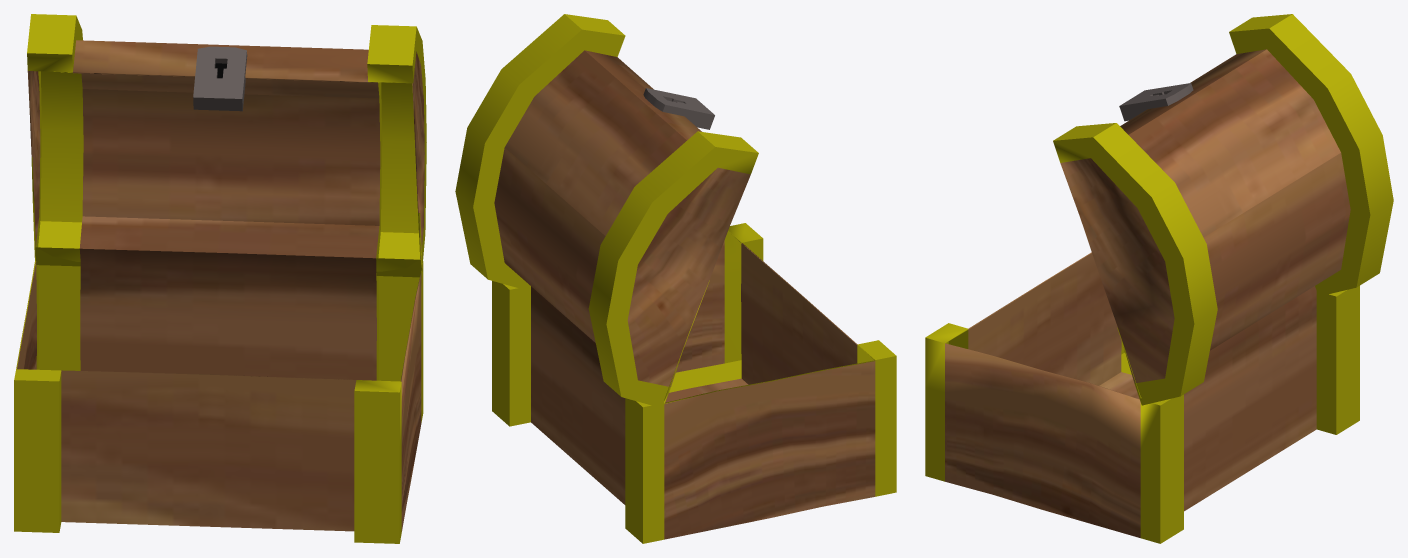
File: cofreabierto.fbx
The picture shows the model from 3 angles, left to right: view 1: azimuth 30°, elevation 25°; view 2: azimuth 150°, elevation 25°; view 3: azimuth 270°, elevation 25°; orthographic projection. The views are drawn at different scales.
Visible parts, largest first — view 1: Cofre.001; view 2: Cofre.001; view 3: Cofre.001.
Boxes of the visible parts, box(x1,y1,x2,y2) form: Cofre.001: box(14, 14, 426, 543); Cofre.001: box(455, 14, 896, 543); Cofre.001: box(925, 14, 1393, 543).
Bounding box in the file's own units: 461 × 414 × 454.
Materials: 4 (1 with a texture image).
